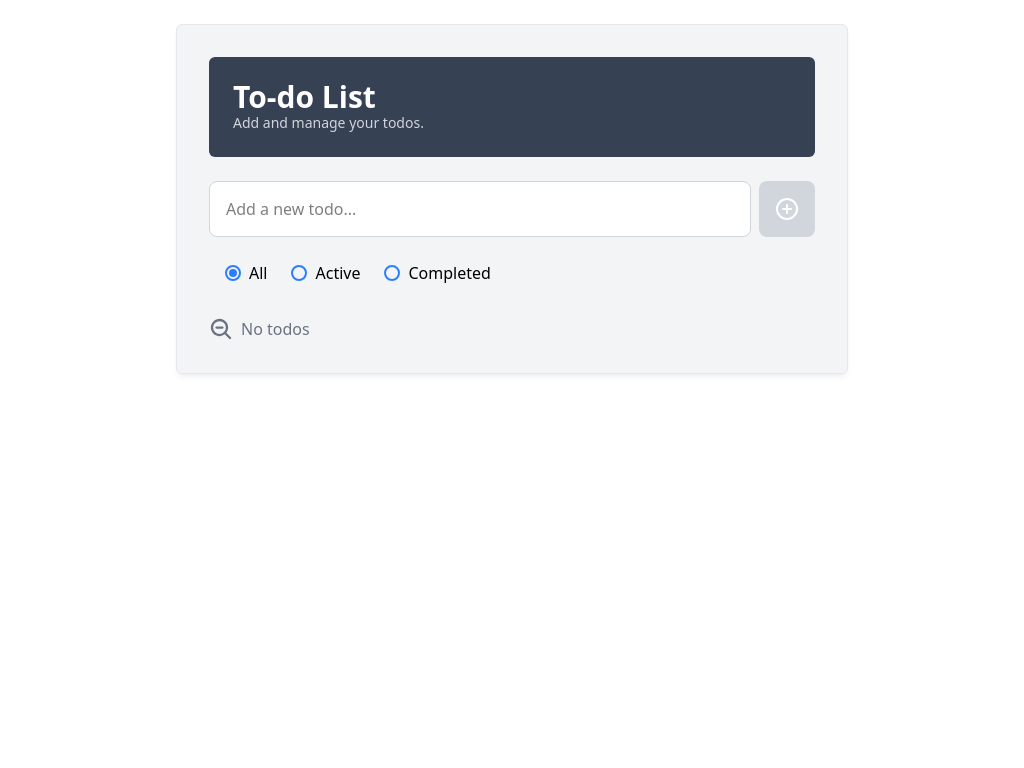
Todo App › should delete a todo item when the delete button is clicked
Type "Buy a pillow" into the field with test id "input-field" at {"x": 480, "y": 209}, box [209,181,751,237]
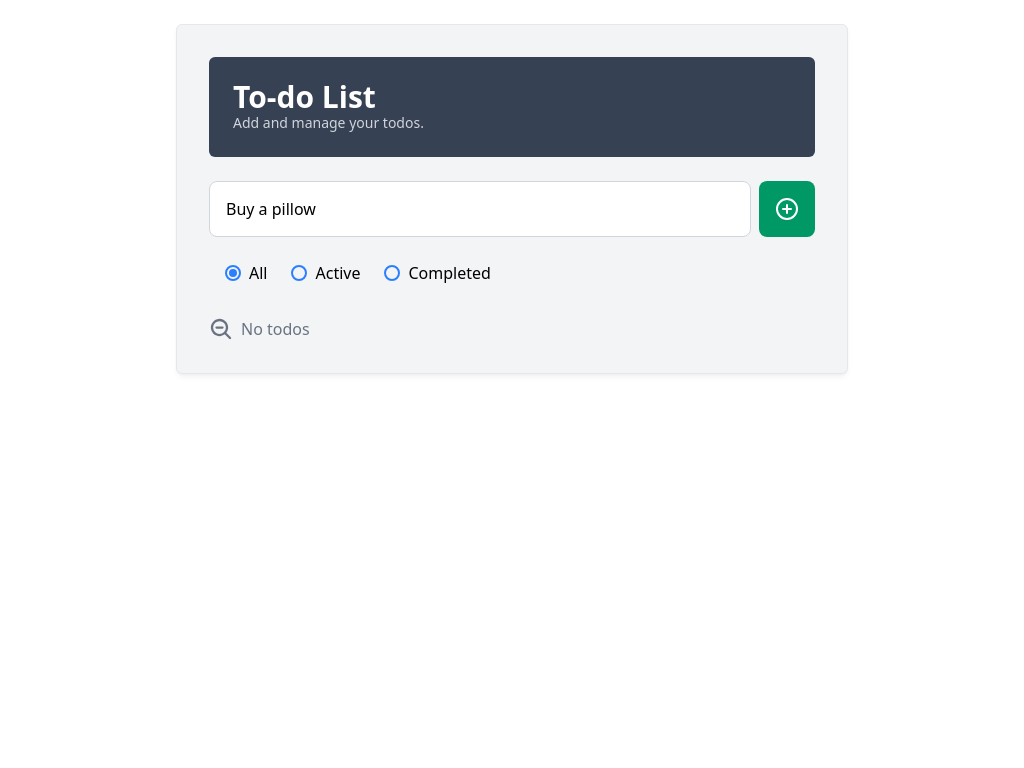
Click the button with test id "submit-button" at {"x": 787, "y": 209}, box [759,181,815,237]
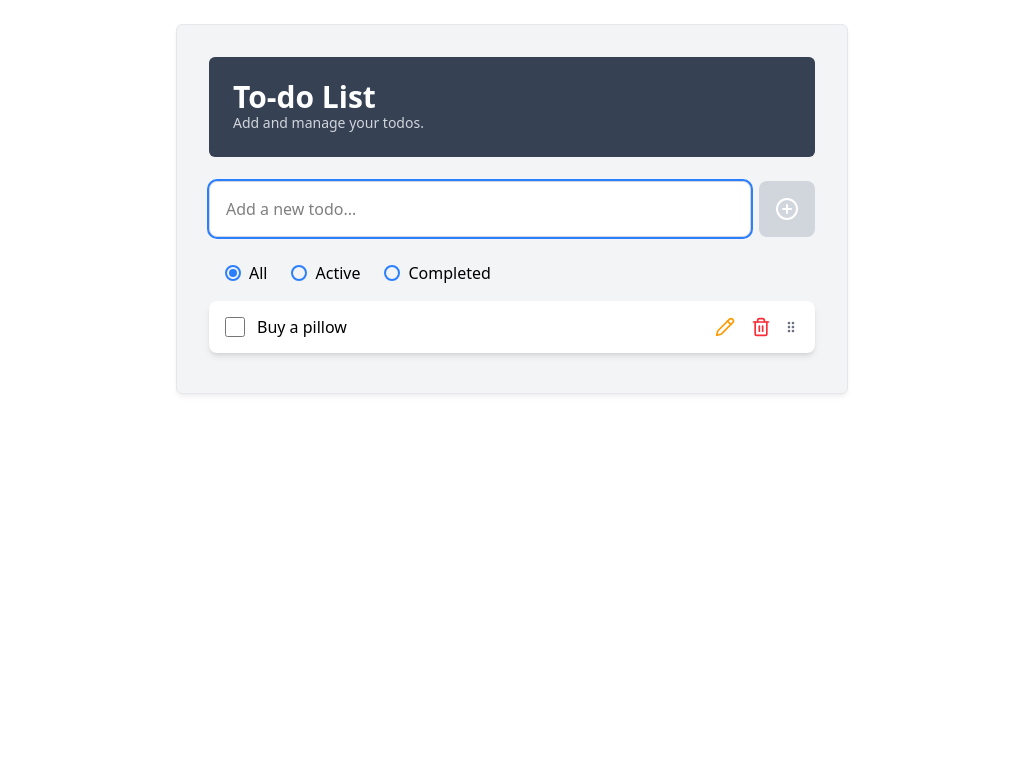
Click the button with test id "delete-button" at {"x": 761, "y": 327}, box [747,313,775,341]
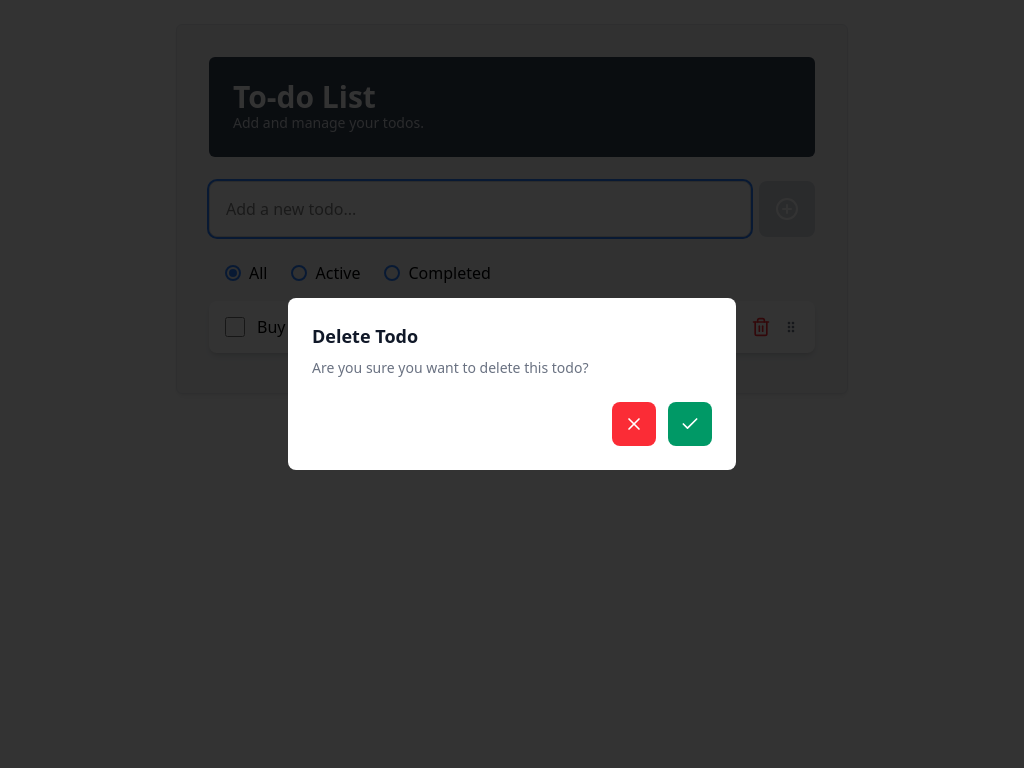
Expected: the element with test id "alert-dialog" is shown, [288,298,736,470]
Click the button with test id "alert-dialog-confirm-button" at {"x": 690, "y": 424}, box [668,402,712,446]
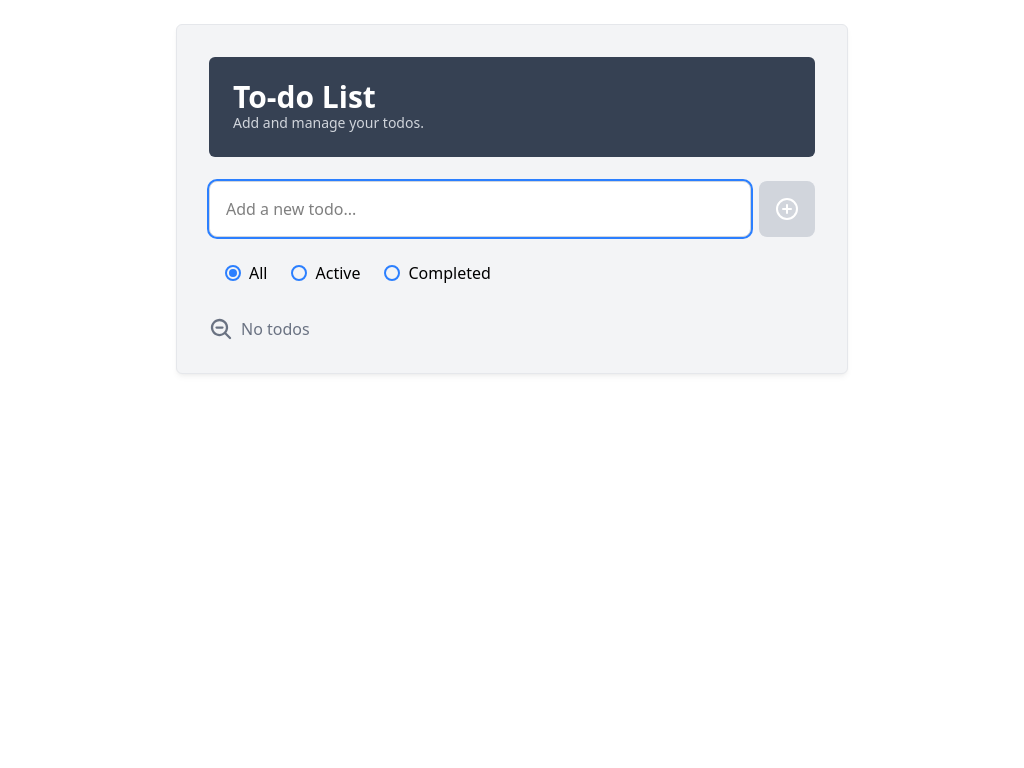
Expected: the element with test id "alert-dialog" is gone
Expected: the button "Buy a pillow" is gone
